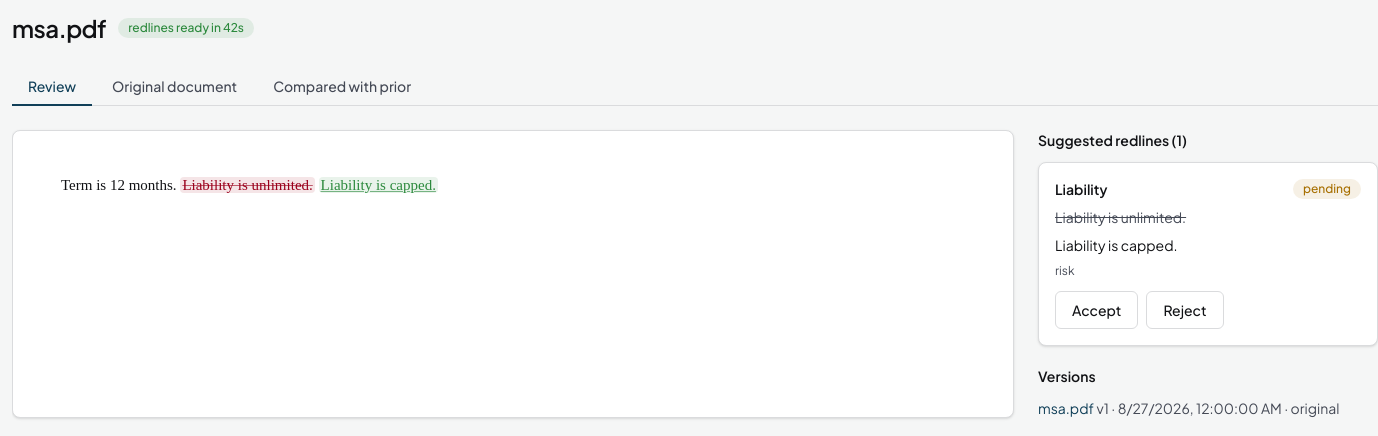
it: comparison tab shows the no-match empty state
Click the tab "Compared with prior": (342, 87) [257,68,427,106]
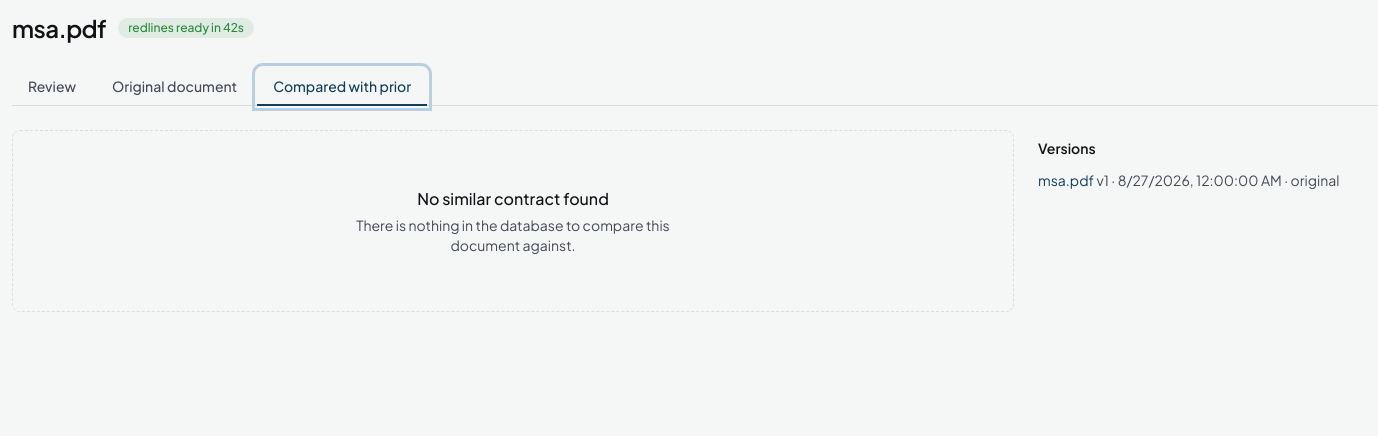
expect the text "No similar contract found" is shown: met, box [417,187,609,211]
